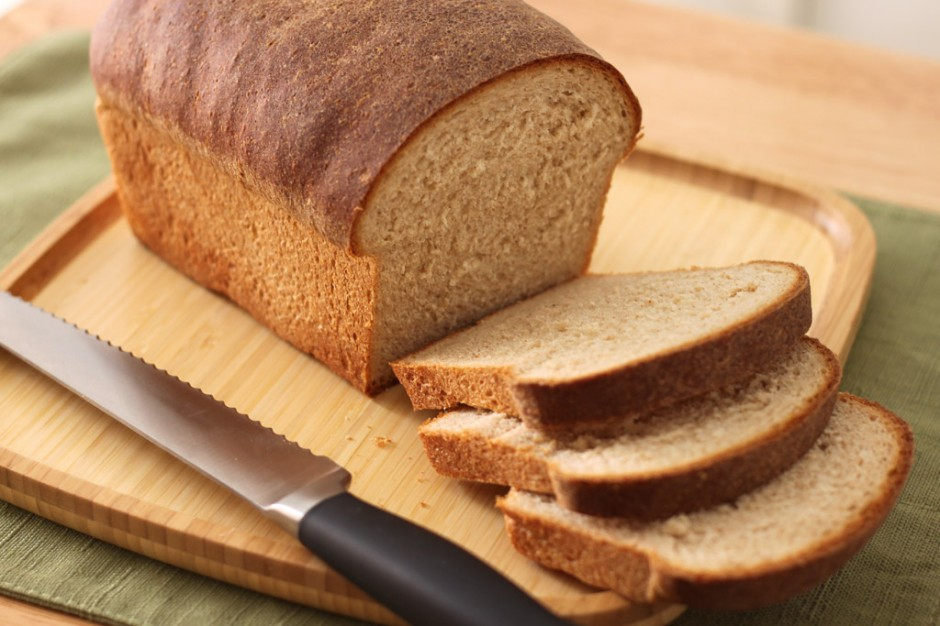slice of bread: (417, 261, 812, 553)
